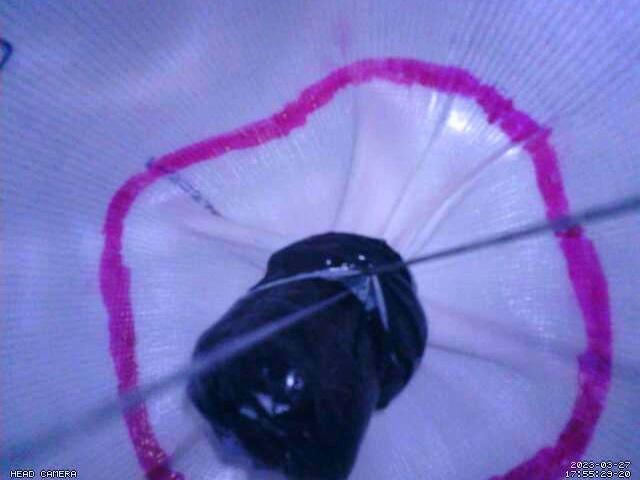red-circle: (96, 57, 615, 480)
